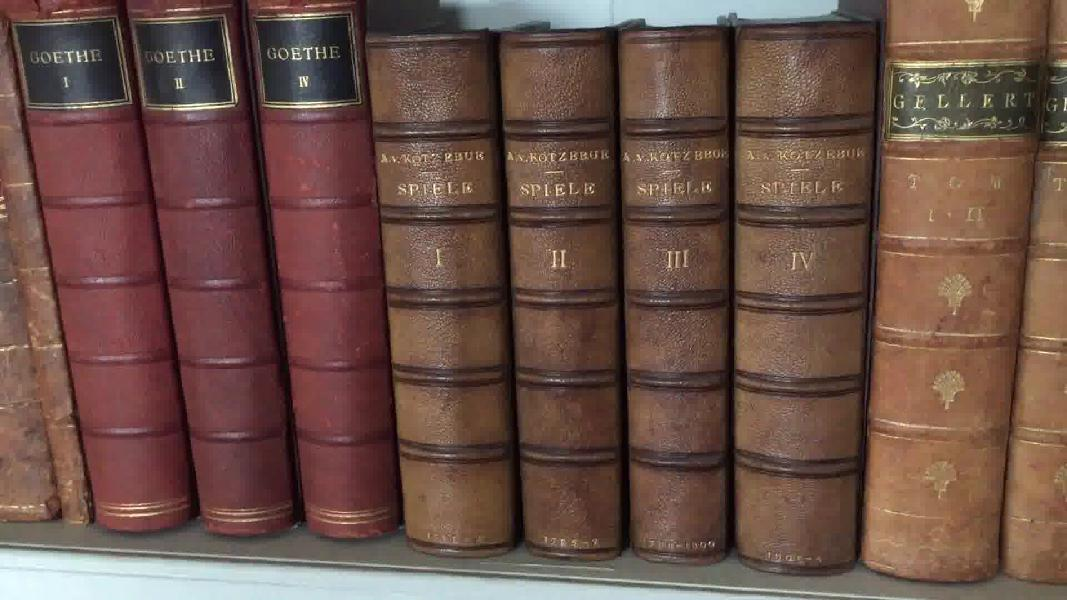Aa6-11_13: (8, 1, 408, 550)
Aa6-14_17: (362, 23, 879, 585)
